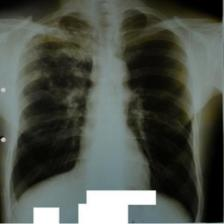tuberculosis: (9, 4, 204, 223)
